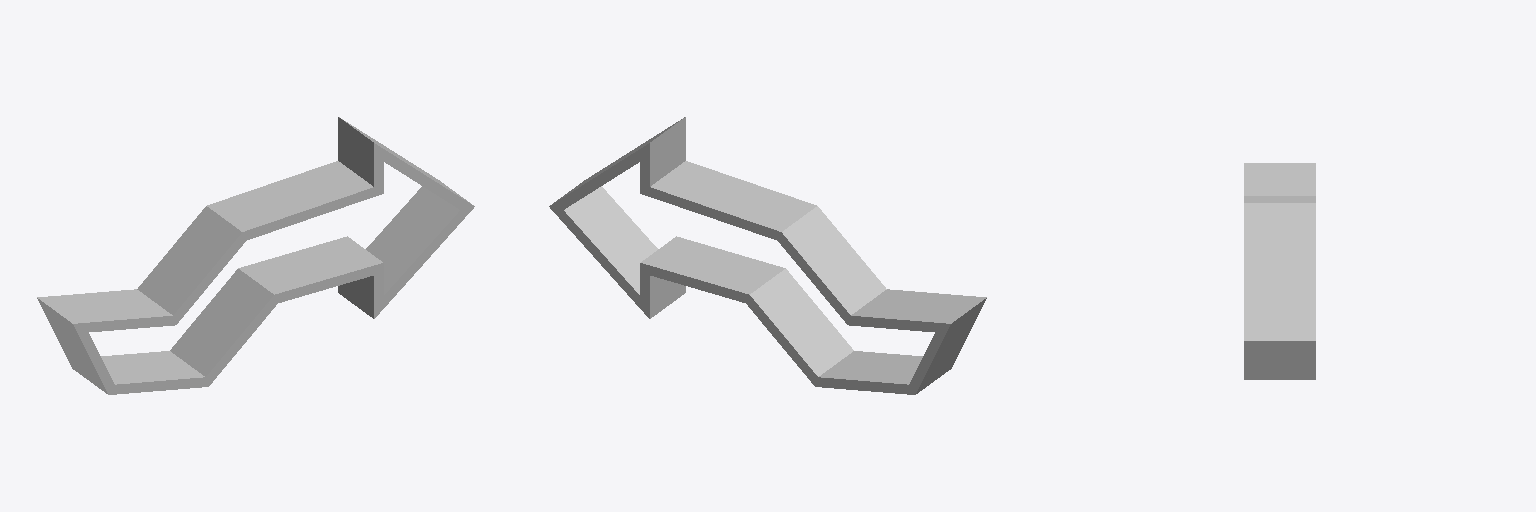
The model's file is Arrow_43.obj.
The picture shows the model from 3 angles: view 1: azimuth 30°, elevation 25°; view 2: azimuth 150°, elevation 25°; view 3: azimuth 270°, elevation 25°; orthographic projection.
Visible parts, largest first — view 1: Arrow_43; view 2: Arrow_43; view 3: Arrow_43.
Boxes of the visible parts, x1=… form: Arrow_43: x1=37, y1=117, x2=474, y2=394; Arrow_43: x1=549, y1=117, x2=986, y2=394; Arrow_43: x1=1244, y1=163, x2=1315, y2=379.
Size of the model in its own units: 4.77 by 2.31 by 0.7423.